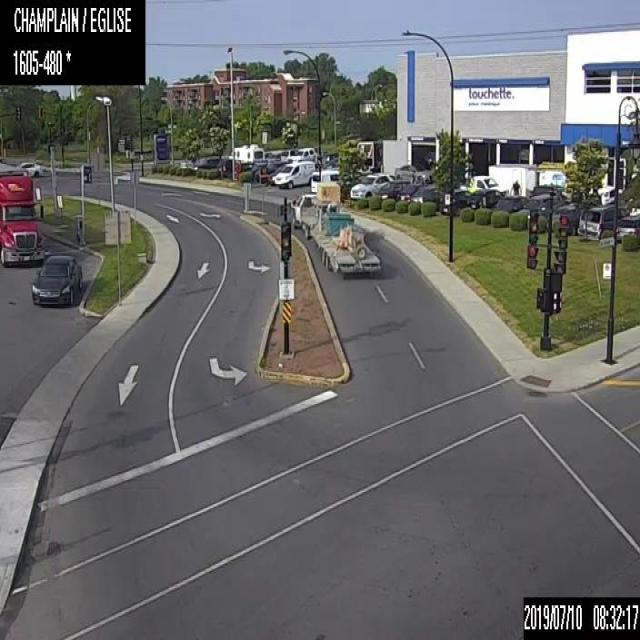pedestrian: (509, 178, 521, 194)
vehicle: (290, 180, 381, 275), (0, 158, 44, 265), (538, 159, 614, 205), (32, 254, 82, 305), (488, 162, 535, 202), (577, 205, 625, 239), (274, 159, 315, 188), (350, 173, 392, 200), (459, 173, 508, 194), (550, 202, 580, 233), (356, 139, 382, 172), (437, 188, 470, 214), (466, 188, 504, 210), (372, 177, 410, 198), (394, 163, 432, 183), (310, 168, 339, 194), (615, 213, 639, 242), (412, 186, 441, 210), (218, 156, 251, 177), (493, 194, 529, 213), (230, 142, 264, 162), (517, 193, 550, 213), (532, 184, 561, 202), (395, 182, 422, 201), (251, 161, 276, 181), (287, 147, 317, 161), (15, 161, 41, 176), (193, 156, 219, 170), (320, 150, 338, 168), (268, 163, 283, 184), (266, 151, 282, 164), (280, 148, 295, 161)
